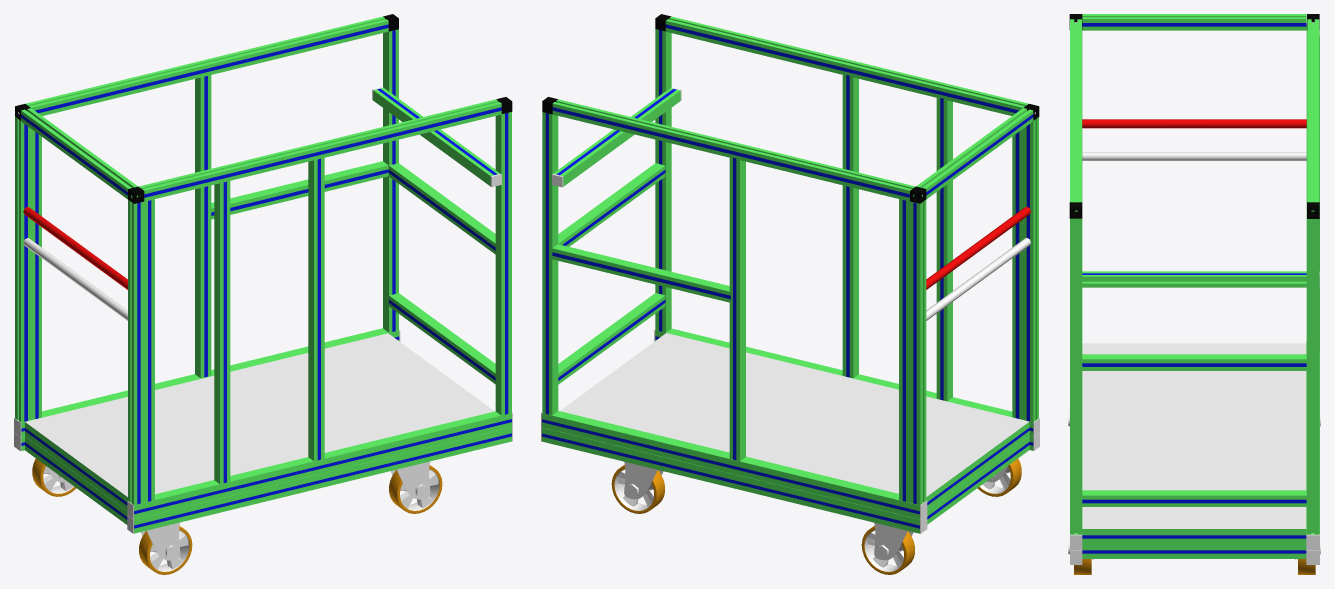
The model's file is RC04 Spülmaschine.FBX.
The picture shows the model from 3 angles, left to right: view 1: azimuth 30°, elevation 25°; view 2: azimuth 150°, elevation 25°; view 3: azimuth 270°, elevation 25°; orthographic projection. The views are drawn at different scales.
Parts seen in each view (by area): view 1: Trolly_4; view 2: Trolly_4; view 3: Trolly_4.
Boxes of the visible parts, x1=… form: Trolly_4: x1=14, y1=14, x2=512, y2=574; Trolly_4: x1=541, y1=14, x2=1039, y2=574; Trolly_4: x1=1068, y1=14, x2=1320, y2=574.
Size of the model in its own units: 14.24 by 14.05 by 7.82.
